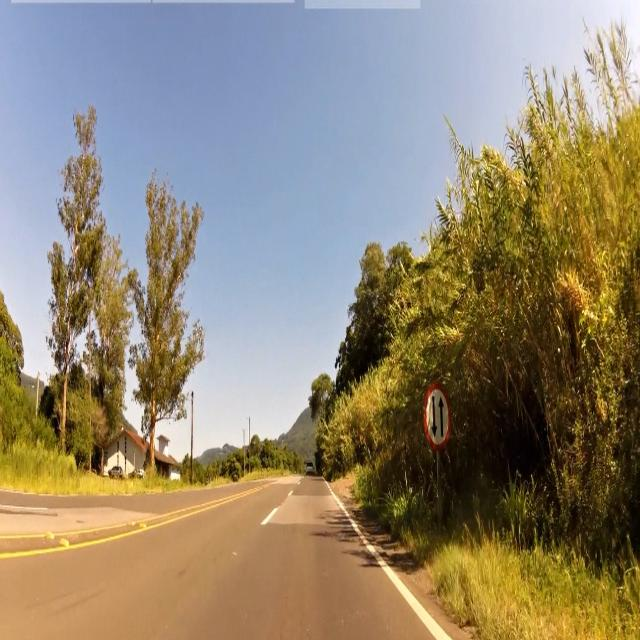R-28: (425, 384, 452, 450)
